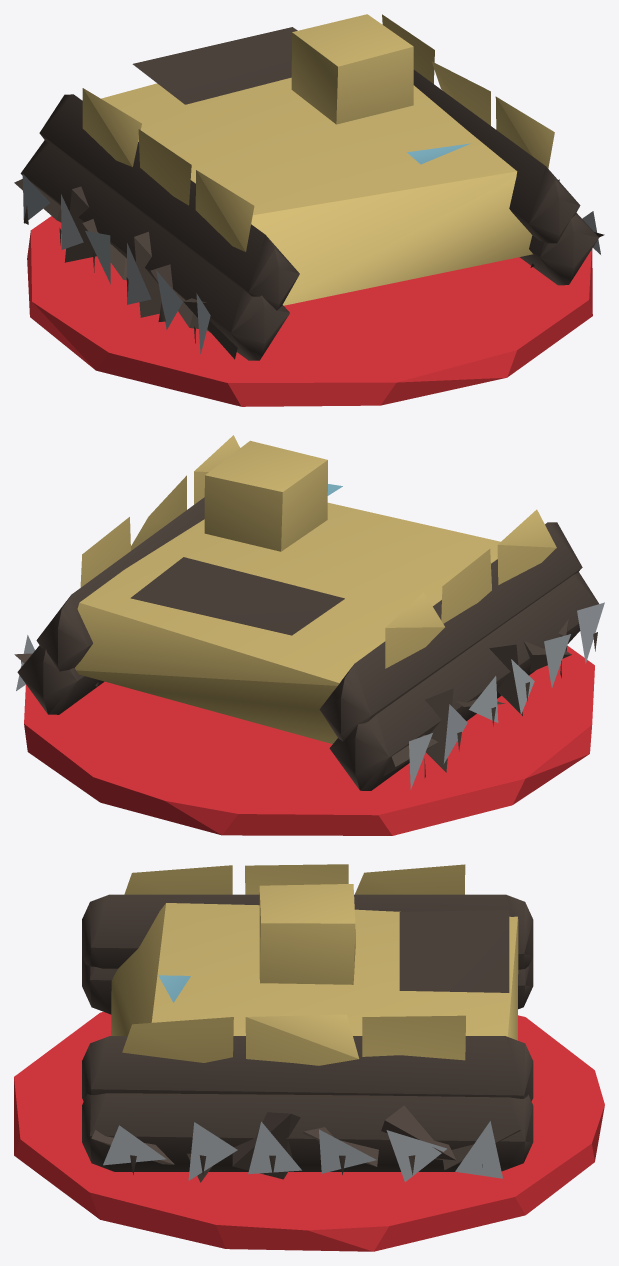
Rendered from israel_infantry_lod1.glb.
3 renders of one model, top to bottom at view 1: azimuth 30°, elevation 25°; view 2: azimuth 150°, elevation 25°; view 3: azimuth 270°, elevation 25°, orthographic. The views are drawn at different scales.
Visible parts, largest first — view 1: body_hull, base_pedestal; view 2: body_hull, base_pedestal; view 3: body_hull, base_pedestal.
Boxes of the visible parts, box(x1,y1,x2,y2) form: body_hull: box(14, 14, 604, 360); base_pedestal: box(27, 216, 592, 406); body_hull: box(14, 435, 604, 790); base_pedestal: box(24, 645, 594, 835); body_hull: box(82, 864, 533, 1182); base_pedestal: box(14, 1012, 604, 1251).
Bounding box in the file's own units: 0.7751 × 0.356 × 0.7751.
